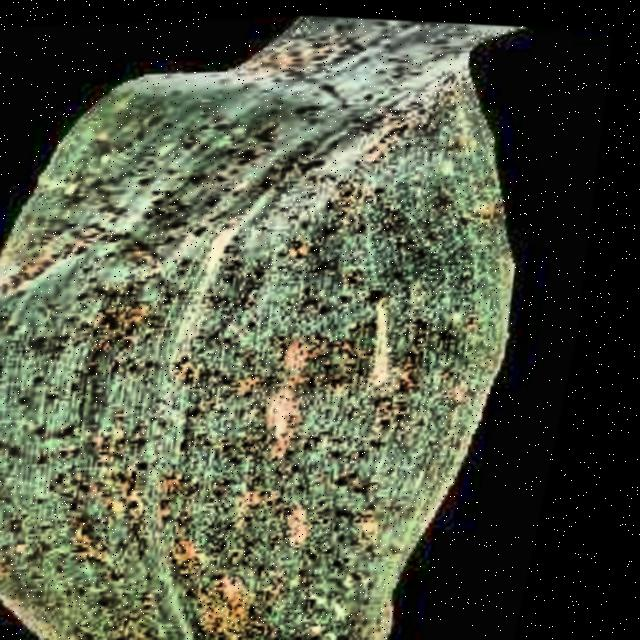common_rust: (0, 5, 552, 640)
